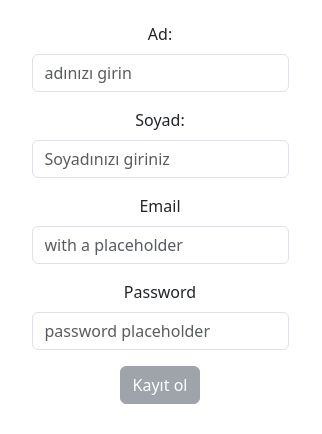
Test: Register › error messages › soyad
Type "şe" into the field with test id "soyad" at x=161, y=159, box [32,140,289,178]
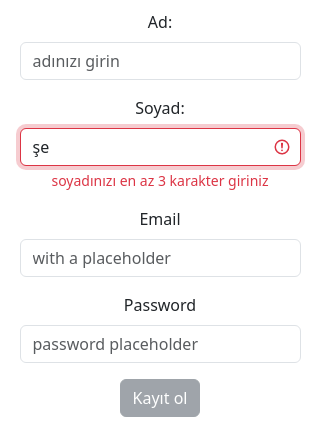
Expected: the text "soyadınızı en az 3 karakter giriniz" is shown, [51,170,268,190]
